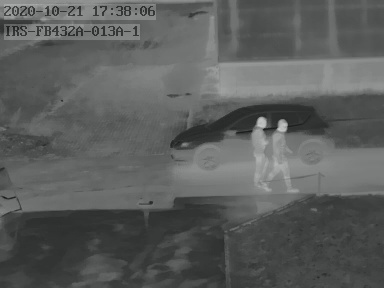person: (270, 119, 295, 192), (249, 116, 268, 185)
vehicle: (168, 102, 335, 170)
